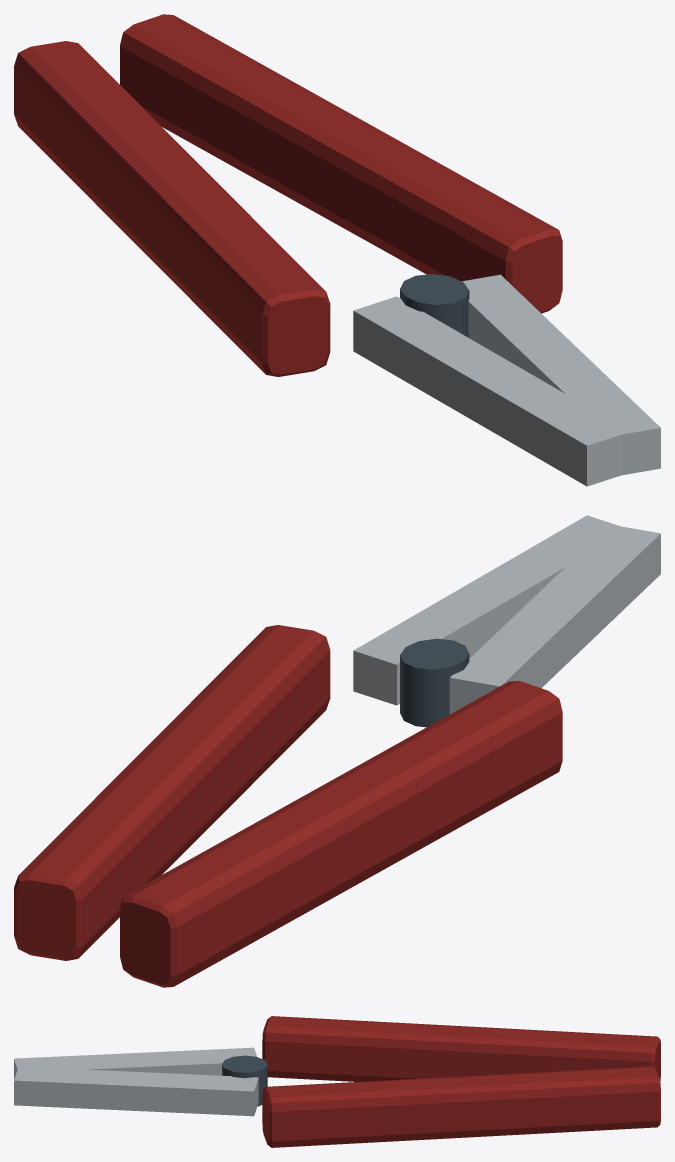
Rendered from tool-wire-stripper.glb.
The picture shows the model from 3 angles, top to bottom: view 1: azimuth 30°, elevation 25°; view 2: azimuth 150°, elevation 25°; view 3: azimuth 270°, elevation 25°; orthographic projection. The views are drawn at different scales.
Visible parts, largest first — view 1: STATIC_paint, STATIC_metal; view 2: STATIC_paint, STATIC_metal; view 3: STATIC_paint, STATIC_metal.
Boxes of the visible parts, x1=… form: STATIC_paint: x1=14, y1=14, x2=562, y2=376; STATIC_metal: x1=353, y1=274, x2=660, y2=486; STATIC_paint: x1=14, y1=625, x2=562, y2=987; STATIC_metal: x1=353, y1=515, x2=660, y2=727; STATIC_paint: x1=262, y1=1016, x2=660, y2=1147; STATIC_metal: x1=14, y1=1047, x2=267, y2=1116.
Bounding box in the file's own units: 0.054 × 0.014 × 0.165.
